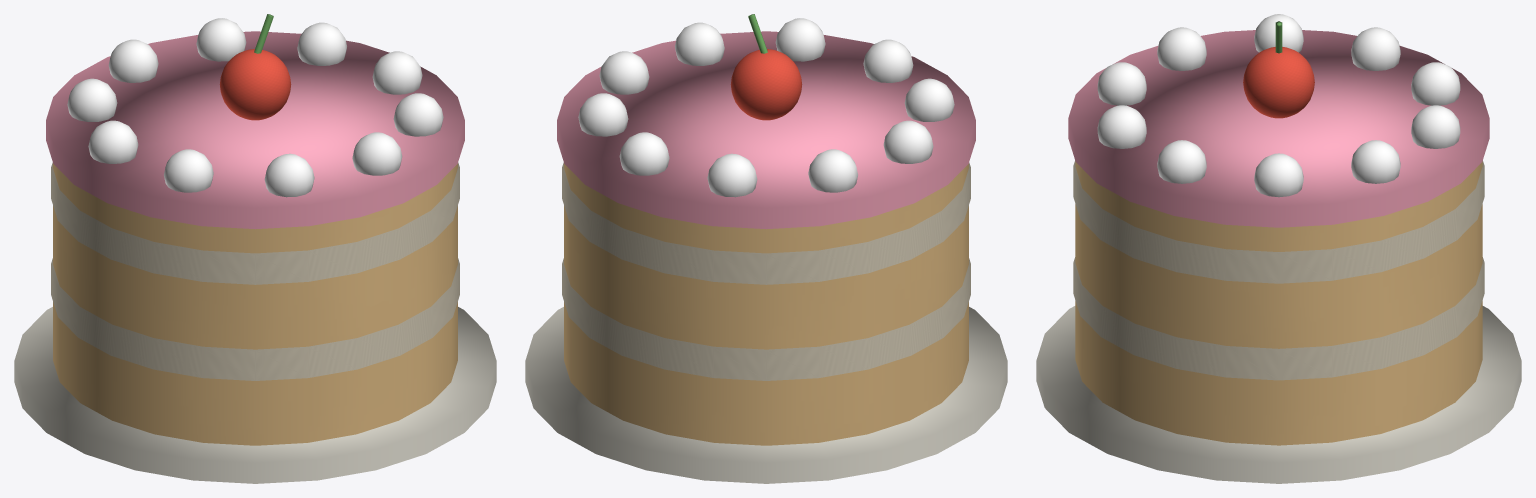
File: CAKE.glb
3 views of the same model, side by side, from view 1: azimuth 30°, elevation 25°; view 2: azimuth 150°, elevation 25°; view 3: azimuth 270°, elevation 25° (orthographic).
Visible parts, largest first — view 1: CAKE; view 2: CAKE; view 3: CAKE.
Boxes of the visible parts, box(x1,y1,x2,y2) form: CAKE: box(14, 14, 496, 483); CAKE: box(525, 14, 1007, 483); CAKE: box(1036, 14, 1521, 483).
Size of the model in its own units: 0.5 by 0.4165 by 0.5.
7 materials, 3 textured.
